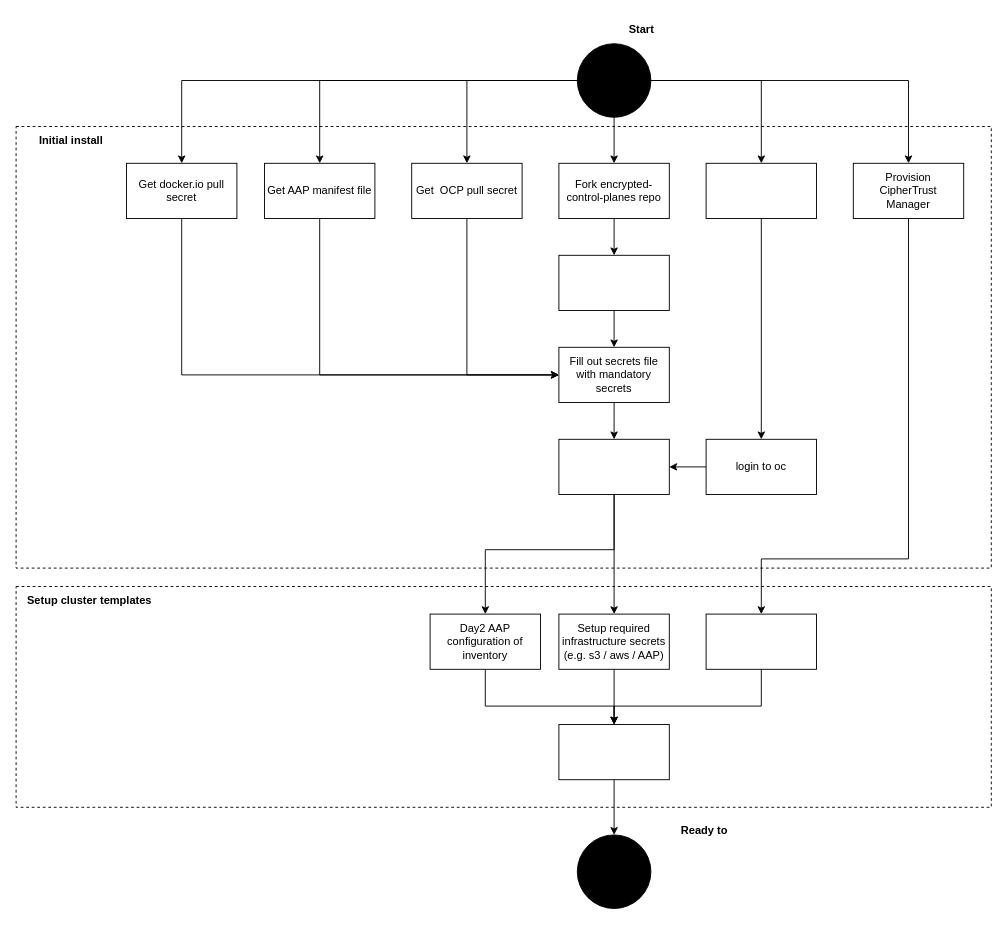
The diagram is 1007 pixels wide and 925 high, and some of its shapes have lost their labels. The shapes that lost their labels are listed below. From the top down, each one's centre as x and y in pixels, then its label:
the point at 760,190: Provision OpenShift Cluster
the point at 613,282: Clone repo
the point at 613,466: ./pattern.sh make install
the point at 760,641: Configure CipherTrust registration token
the point at 613,752: Configure cluster template helm charts
